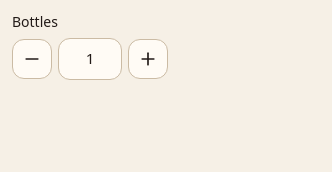
Test case: Stepper › accepts typed numbers and clamps them on blur
The width and height of the screenshot is (332, 172).
Step 1. Replace the text in the number field labelled "Bottles" with "40" → (90, 59), box 58,38 -> 122,80
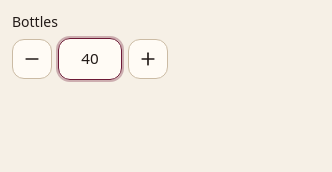
Step 2. Press Tab
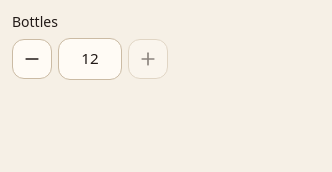
expect the number field labelled "Bottles" holds "12": met, box 58,38 -> 122,80
